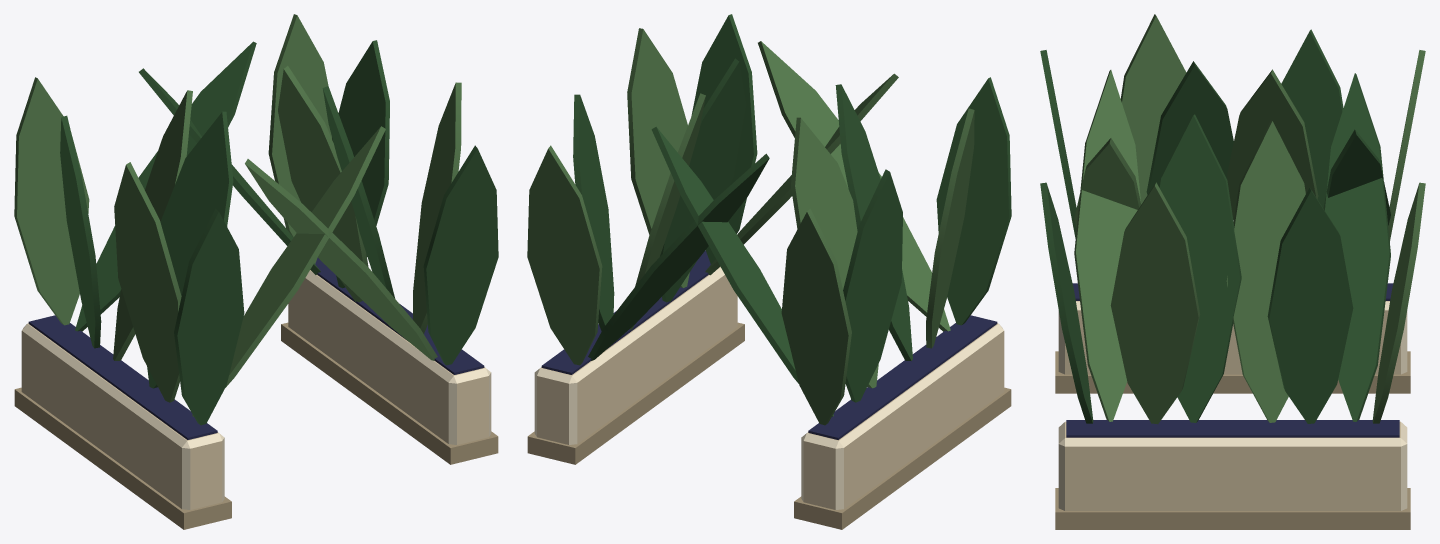
The model's file is Hide_Plant.fbx.
The picture shows the model from 3 angles, left to right: view 1: azimuth 30°, elevation 25°; view 2: azimuth 150°, elevation 25°; view 3: azimuth 270°, elevation 25°; orthographic projection. The views are drawn at different scales.
Visible parts, largest first — view 1: Hide_Plant; view 2: Hide_Plant; view 3: Hide_Plant.
Part boxes in pixels (<box>): Hide_Plant: <box>14,14,498,529</box>; Hide_Plant: <box>527,14,1011,529</box>; Hide_Plant: <box>1040,14,1425,529</box>.
Bounding box in the file's own units: 6.29 × 6.17 × 5.97.
1 material, 1 textured.
